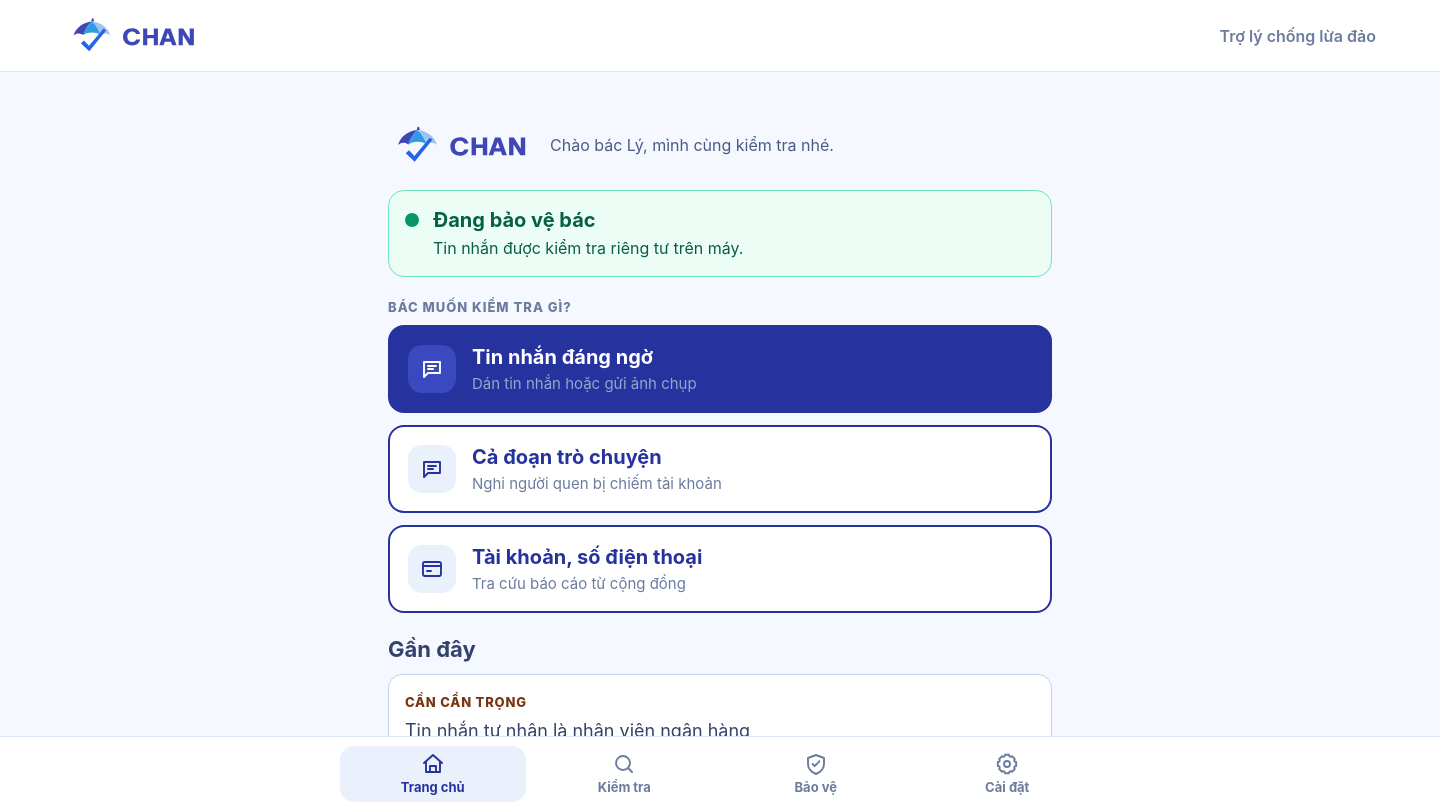
Scenario: CHAN web flow › keeps analysis disabled until the user enters a message
Click the button "Tin nhắn đáng ngờ Dán tin nhắn hoặc gửi ảnh chụp": (432, 369) [388,325,1052,413]
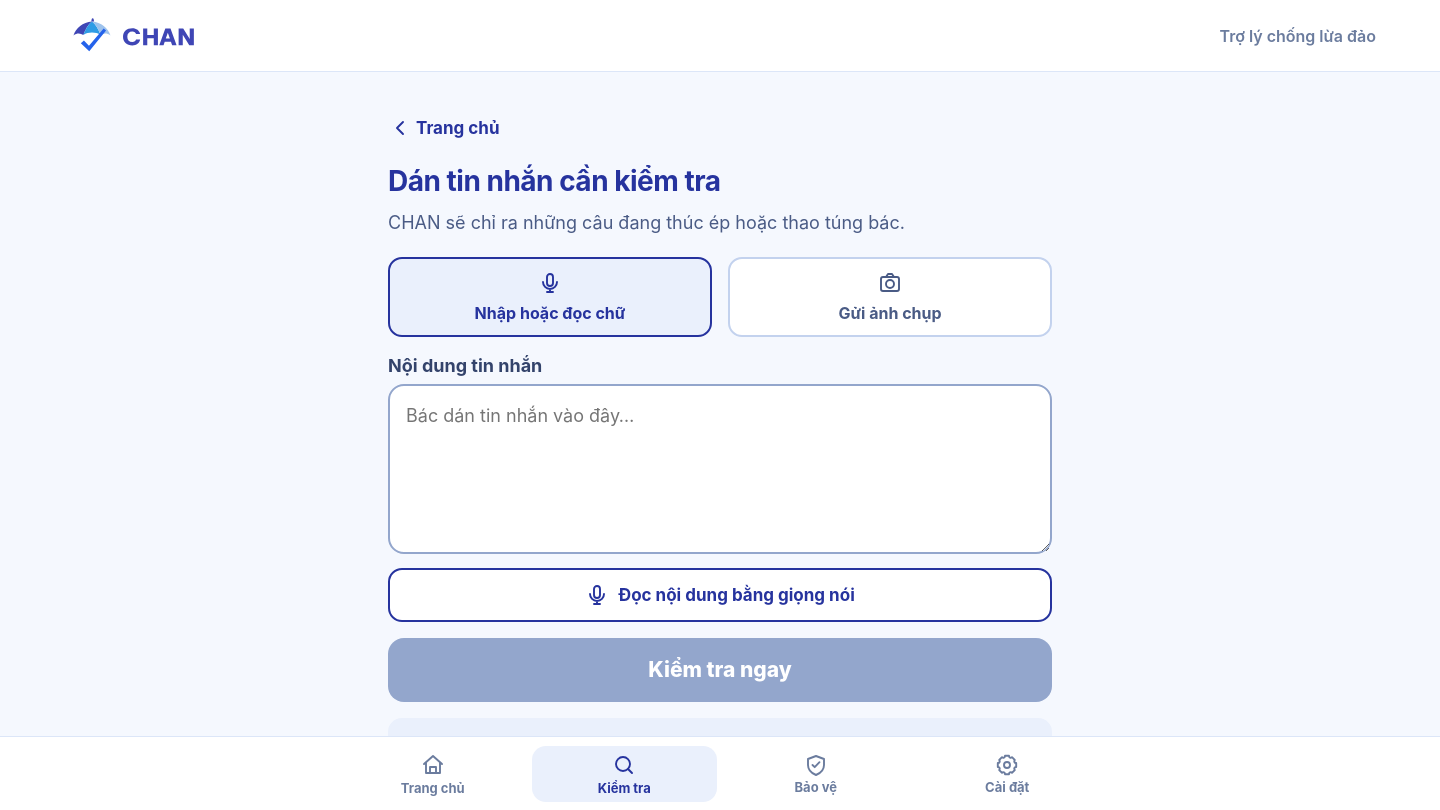
Check: the button "Kiểm tra ngay" is disabled, box [388,638,1052,702]
In the text box labelled "Nội dung tin nhắn": (720, 469) [388,384,1052,554], type "Chuyển tiền ngay."
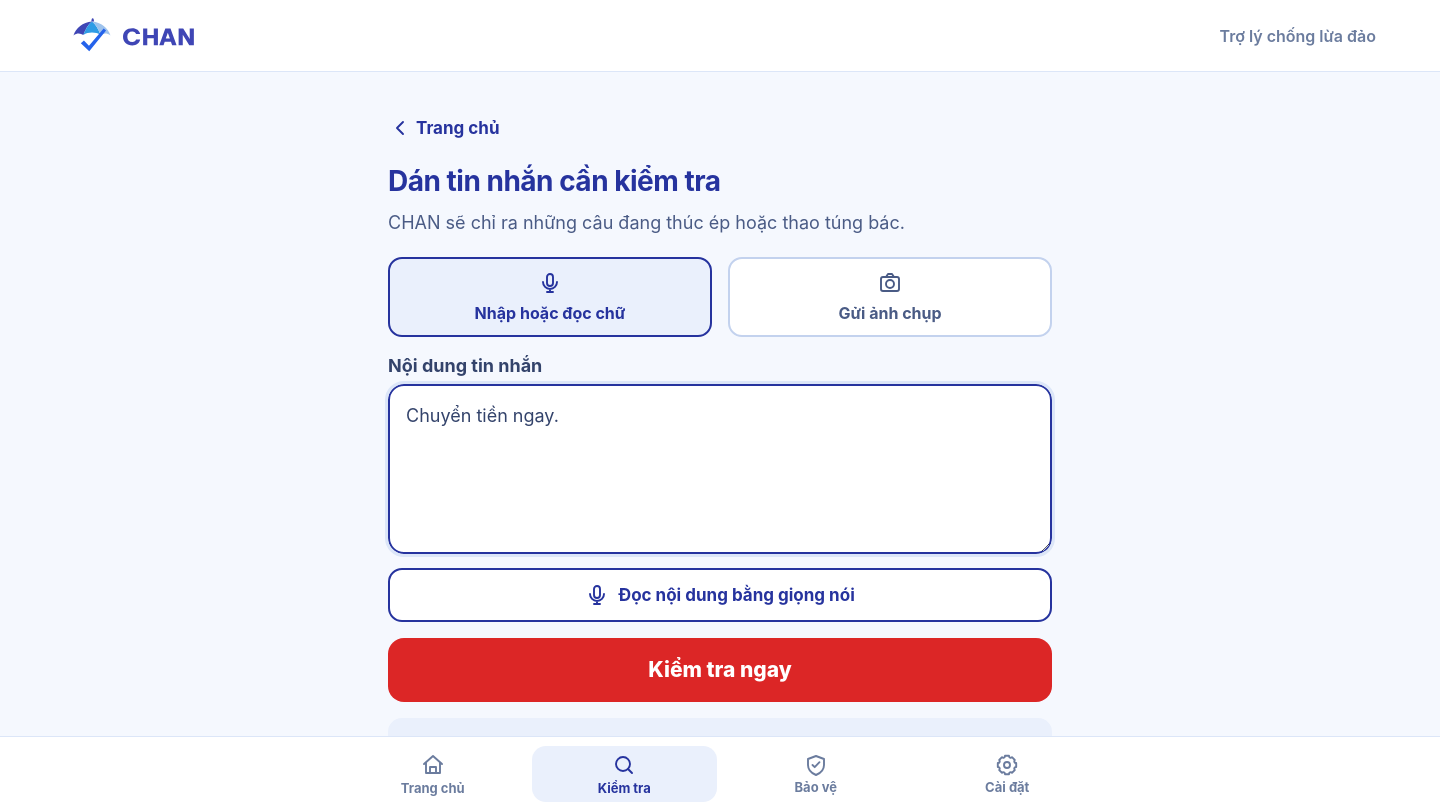
Check: the button "Kiểm tra ngay" is enabled, box [388,638,1052,702]
